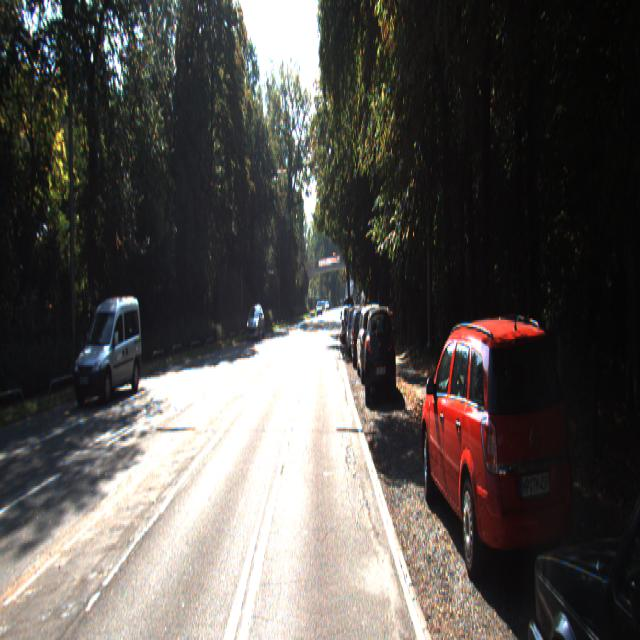Car: (415, 309, 586, 613), (522, 355, 639, 638), (72, 292, 144, 408), (364, 301, 396, 401), (357, 307, 388, 385), (352, 307, 374, 369), (347, 304, 367, 358), (246, 305, 265, 342), (342, 306, 355, 344)
